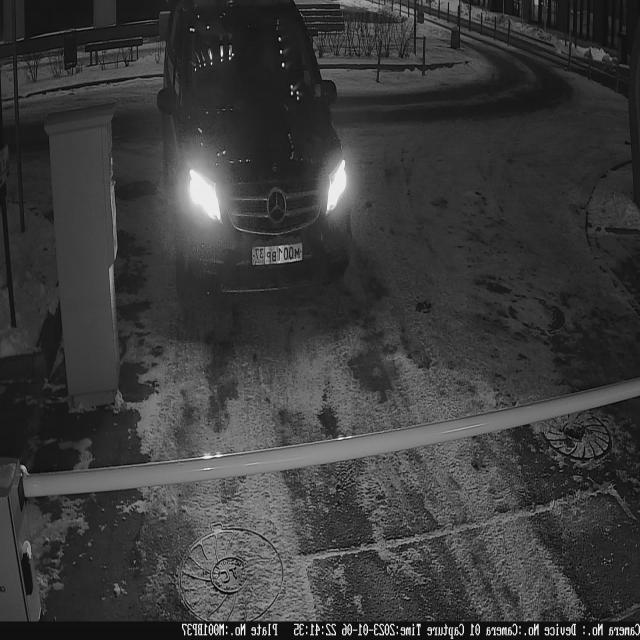car-plate-numbers: (249, 237, 307, 275)
